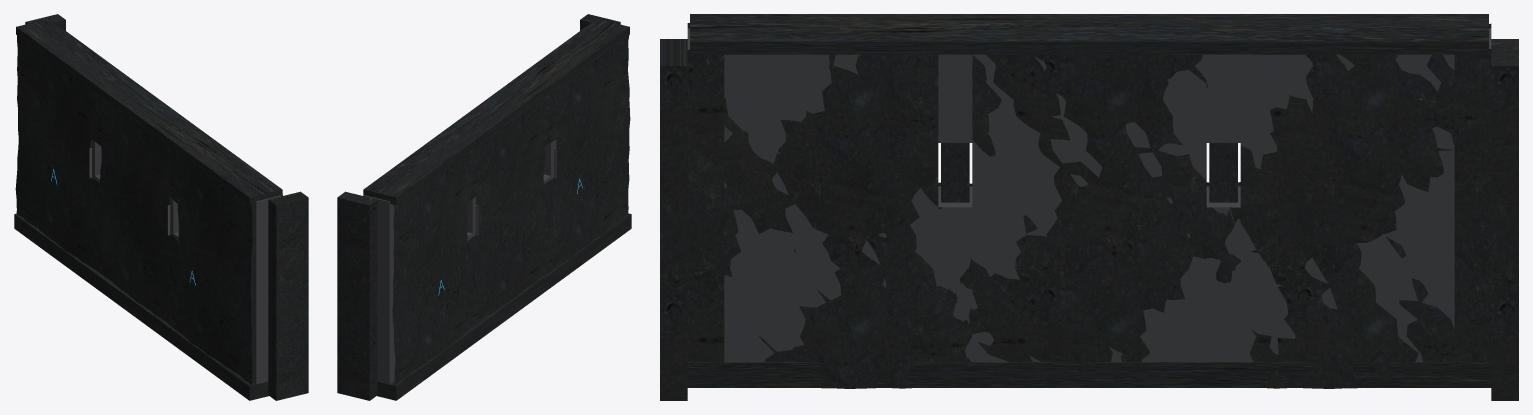
File: arcanista_left_preview.glb
3 renders of one model, left to right at view 1: azimuth 30°, elevation 25°; view 2: azimuth 150°, elevation 25°; view 3: azimuth 270°, elevation 25°, orthographic. The views are drawn at different scales.
Parts seen in each view (by area): view 1: ASSET_LEFT_LEFT_FULL_-2.37_EXTERIOR, ASSET_LEFT_LEFT_FULL_2.37_EXTERIOR, ASSET_LEFT_LEFT_FULL_0.0_EXTERIOR, ASSET_LEFT_LEFT_CONTINUOUS_ROOFBED, ASSET_Arcanist_Geological_L_Quoin_LFront, ASSET_LEFT_LEFT_CONCEALED_FOUNDATION, ASSET_LEFT_LEFT_CORE_FULL_2.37, ASSET_LEFT_LEFT_LOW_-1.15_EXTERIOR, ASSET_LEFT_LEFT_LOW_1.15_EXTERIOR, ASSET_LEFT_LEFT_HIGH_1.15_EXTERIOR, ASSET_LEFT_LEFT_HIGH_-1.15_EXTERIOR, ASSET_LEFT_LEFT_CORE_FULL_-2.37 (+1 smaller); view 2: ASSET_LEFT_LEFT_FULL_2.37_EXTERIOR, ASSET_LEFT_LEFT_FULL_-2.37_EXTERIOR, ASSET_LEFT_LEFT_FULL_0.0_EXTERIOR, ASSET_LEFT_LEFT_CONTINUOUS_ROOFBED, ASSET_Arcanist_Geological_L_Quoin_LRear, ASSET_LEFT_LEFT_CONCEALED_FOUNDATION, ASSET_LEFT_LEFT_CORE_FULL_-2.37, ASSET_LEFT_LEFT_LOW_1.15_EXTERIOR, ASSET_LEFT_LEFT_LOW_-1.15_EXTERIOR, ASSET_LEFT_LEFT_HIGH_-1.15_EXTERIOR, ASSET_LEFT_LEFT_HIGH_1.15_EXTERIOR, ASSET_LEFT_LEFT_CORE_FULL_2.37 (+1 smaller); view 3: ASSET_LEFT_LEFT_FULL_-2.37_INTERIOR, ASSET_LEFT_LEFT_FULL_0.0_INTERIOR, ASSET_LEFT_LEFT_FULL_2.37_INTERIOR, ASSET_LEFT_LEFT_CONTINUOUS_ROOFBED, ASSET_LEFT_LEFT_CORE_FULL_2.37, ASSET_LEFT_LEFT_CORE_FULL_0.0, ASSET_LEFT_LEFT_CORE_FULL_-2.37, ASSET_Arcanist_Geological_L_Quoin_LRear, ASSET_Arcanist_Geological_L_Quoin_LFront, ASSET_LEFT_LEFT_CONCEALED_FOUNDATION, ASSET_LEFT_LEFT_CORE_LOW_-1.15, ASSET_LEFT_LEFT_CORE_LOW_1.15 (+6 smaller).
Boxes of the visible parts, box(x1,y1,x2,y2) form: ASSET_LEFT_LEFT_FULL_-2.37_EXTERIOR: box(15, 35, 92, 266); ASSET_LEFT_LEFT_FULL_2.37_EXTERIOR: box(177, 153, 252, 384); ASSET_LEFT_LEFT_FULL_0.0_EXTERIOR: box(99, 97, 170, 324); ASSET_LEFT_LEFT_CONTINUOUS_ROOFBED: box(16, 19, 282, 205); ASSET_Arcanist_Geological_L_Quoin_LFront: box(268, 191, 308, 400); ASSET_LEFT_LEFT_CONCEALED_FOUNDATION: box(14, 213, 268, 400); ASSET_LEFT_LEFT_CORE_FULL_2.37: box(250, 195, 281, 384); ASSET_LEFT_LEFT_LOW_-1.15_EXTERIOR: box(90, 178, 102, 273); ASSET_LEFT_LEFT_LOW_1.15_EXTERIOR: box(168, 234, 179, 331); ASSET_LEFT_LEFT_HIGH_1.15_EXTERIOR: box(168, 146, 178, 203); ASSET_LEFT_LEFT_HIGH_-1.15_EXTERIOR: box(91, 90, 101, 145); ASSET_LEFT_LEFT_CORE_FULL_-2.37: box(90, 106, 101, 260); ASSET_LEFT_LEFT_FULL_2.37_EXTERIOR: box(554, 35, 630, 266); ASSET_LEFT_LEFT_FULL_-2.37_EXTERIOR: box(392, 154, 467, 385); ASSET_LEFT_LEFT_FULL_0.0_EXTERIOR: box(475, 96, 546, 323); ASSET_LEFT_LEFT_CONTINUOUS_ROOFBED: box(363, 19, 629, 205); ASSET_Arcanist_Geological_L_Quoin_LRear: box(337, 191, 377, 400); ASSET_LEFT_LEFT_CONCEALED_FOUNDATION: box(377, 213, 631, 400); ASSET_LEFT_LEFT_CORE_FULL_-2.37: box(364, 195, 395, 384); ASSET_LEFT_LEFT_LOW_1.15_EXTERIOR: box(544, 177, 556, 274); ASSET_LEFT_LEFT_LOW_-1.15_EXTERIOR: box(466, 235, 477, 331); ASSET_LEFT_LEFT_HIGH_-1.15_EXTERIOR: box(465, 147, 476, 203); ASSET_LEFT_LEFT_HIGH_1.15_EXTERIOR: box(545, 88, 556, 145); ASSET_LEFT_LEFT_CORE_FULL_2.37: box(544, 95, 556, 231); ASSET_LEFT_LEFT_FULL_-2.37_INTERIOR: box(1240, 49, 1491, 388); ASSET_LEFT_LEFT_FULL_0.0_INTERIOR: box(972, 50, 1206, 373); ASSET_LEFT_LEFT_FULL_2.37_INTERIOR: box(687, 50, 938, 388); ASSET_LEFT_LEFT_CONTINUOUS_ROOFBED: box(690, 14, 1488, 54); ASSET_LEFT_LEFT_CORE_FULL_2.37: box(687, 28, 938, 361); ASSET_LEFT_LEFT_CORE_FULL_0.0: box(972, 54, 1206, 361); ASSET_LEFT_LEFT_CORE_FULL_-2.37: box(1240, 28, 1491, 361); ASSET_Arcanist_Geological_L_Quoin_LRear: box(1454, 39, 1518, 400); ASSET_Arcanist_Geological_L_Quoin_LFront: box(660, 39, 724, 400); ASSET_LEFT_LEFT_CONCEALED_FOUNDATION: box(687, 362, 1491, 387); ASSET_LEFT_LEFT_CORE_LOW_-1.15: box(1206, 186, 1240, 361); ASSET_LEFT_LEFT_CORE_LOW_1.15: box(938, 186, 972, 361).
Bounding box in the file's own units: 0.9255 × 3.28 × 7.36.
Materials: 5 (2 with a texture image).
